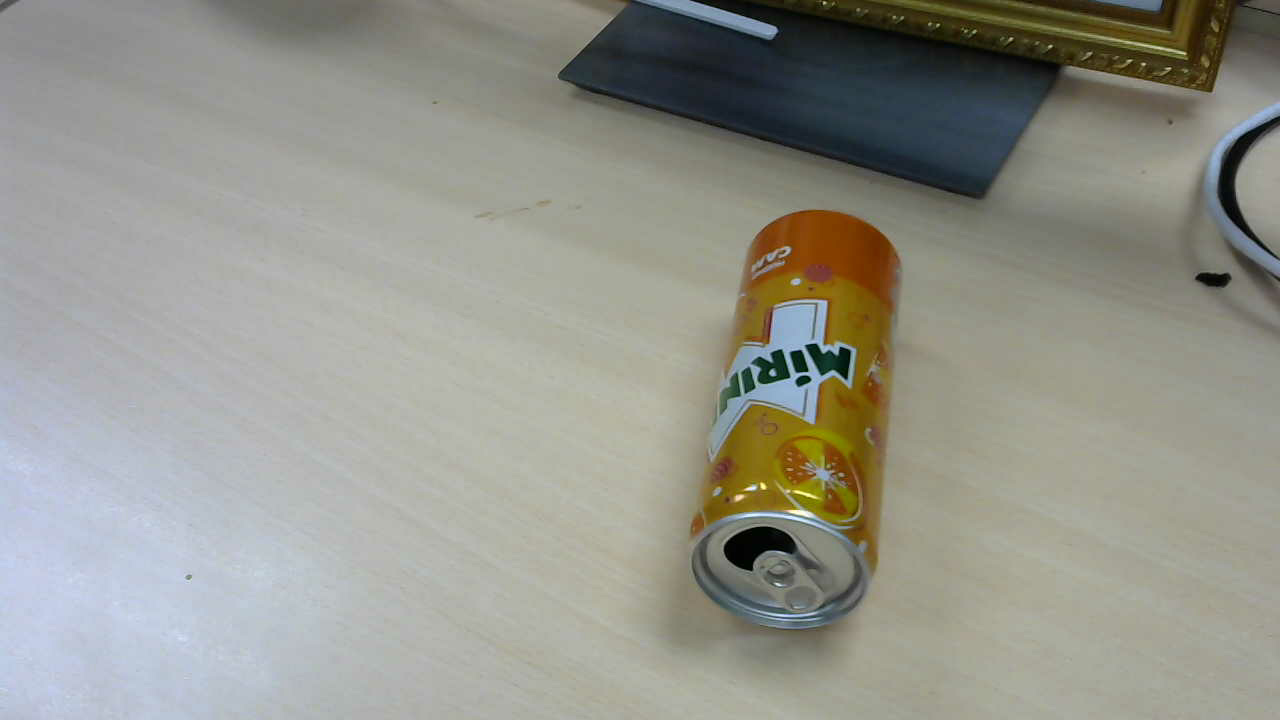Mirinda: (693, 213, 907, 635)
